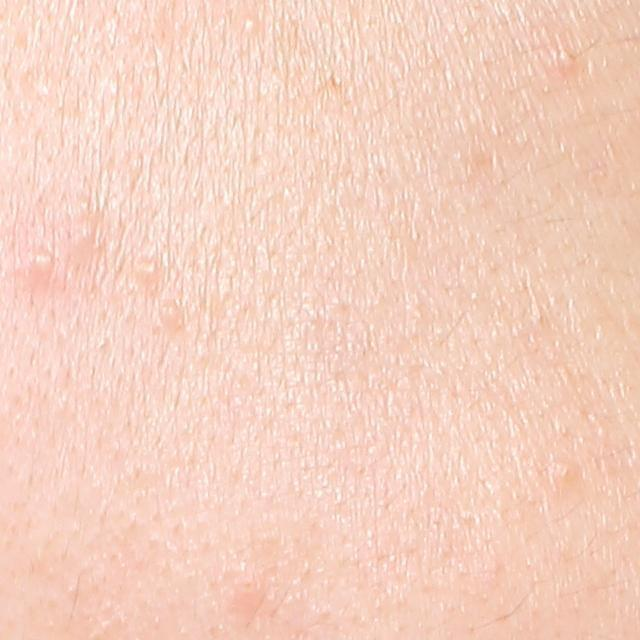comedo: (549, 452, 579, 488), (133, 257, 166, 287), (556, 41, 579, 70), (240, 14, 262, 39)
